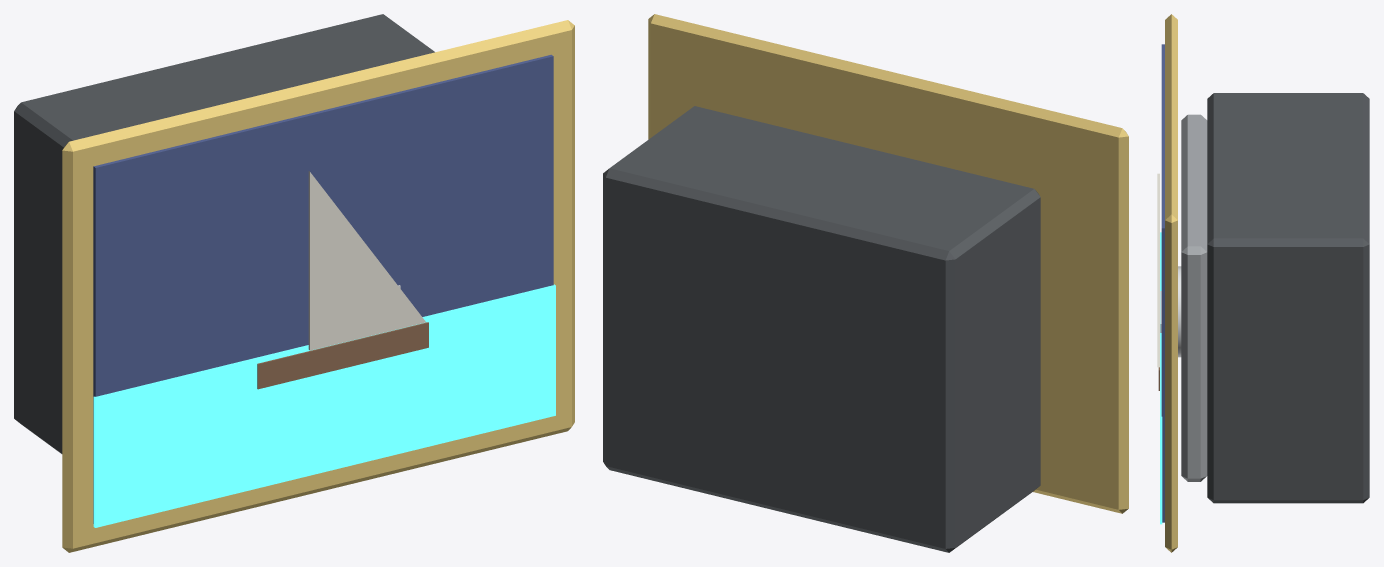
File: an_safe.glb
3 views of the same model, side by side, from view 1: azimuth 30°, elevation 25°; view 2: azimuth 150°, elevation 25°; view 3: azimuth 270°, elevation 25° (orthographic). The views are drawn at different scales.
Parts seen in each view (by area): view 1: door, an_safe; view 2: an_safe, door; view 3: an_safe, door.
Part boxes in pixels (x1,y1,x2,y2): door: (62, 20, 574, 552); an_safe: (14, 14, 434, 453); an_safe: (603, 106, 1040, 552); door: (648, 14, 1128, 513); an_safe: (1207, 93, 1369, 503); door: (1157, 14, 1207, 552).
Size of the model in its own units: 1.5 by 1.15 by 0.654.
